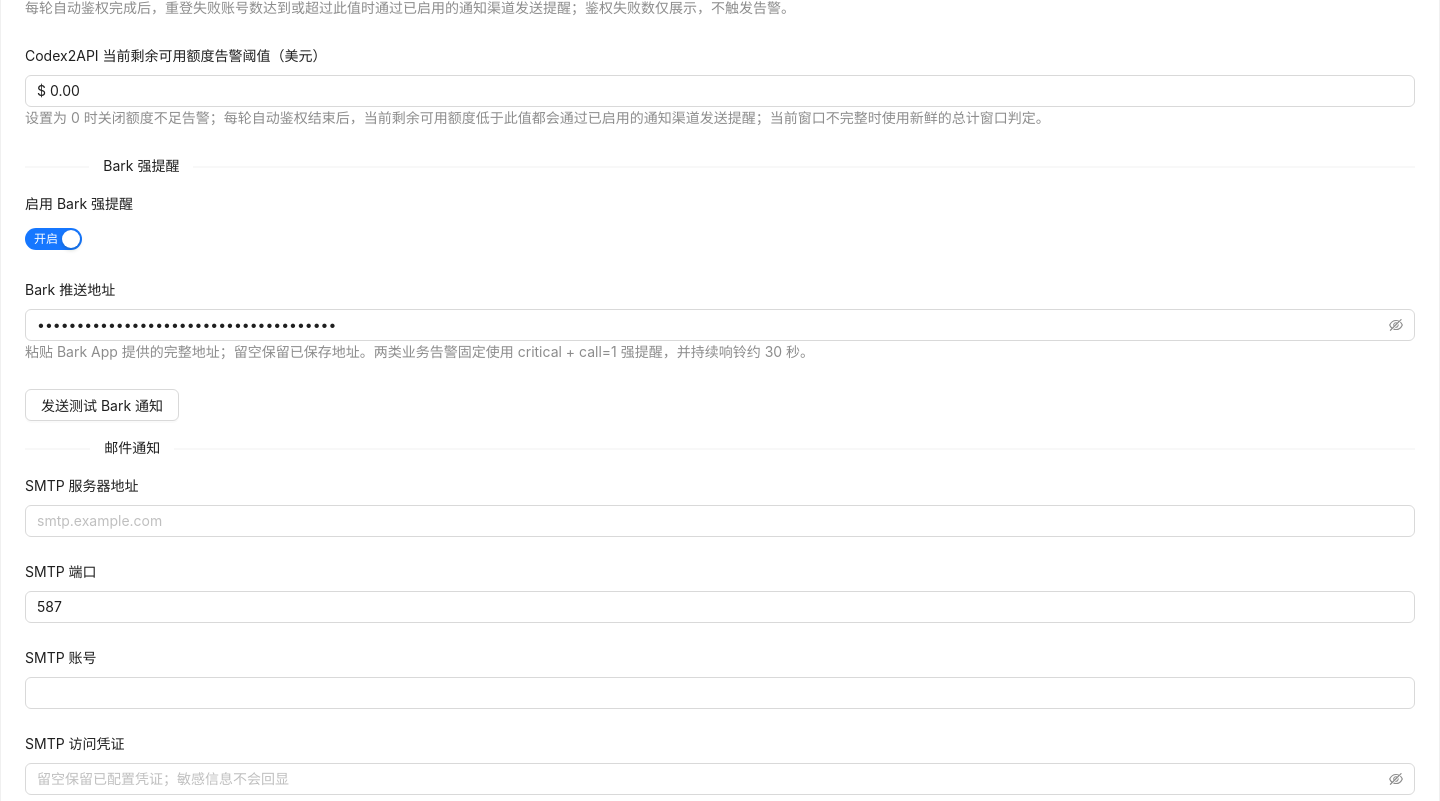
Test: ChatGPTAutoReloginSection › sends a Bark test with the current unsaved form values
(page scrolled)
What coordinates should you click on to do the following:
click the button "发送测试 Bark 通知"
I would click on:
 (102, 405)
Its box is [25,389,179,421].
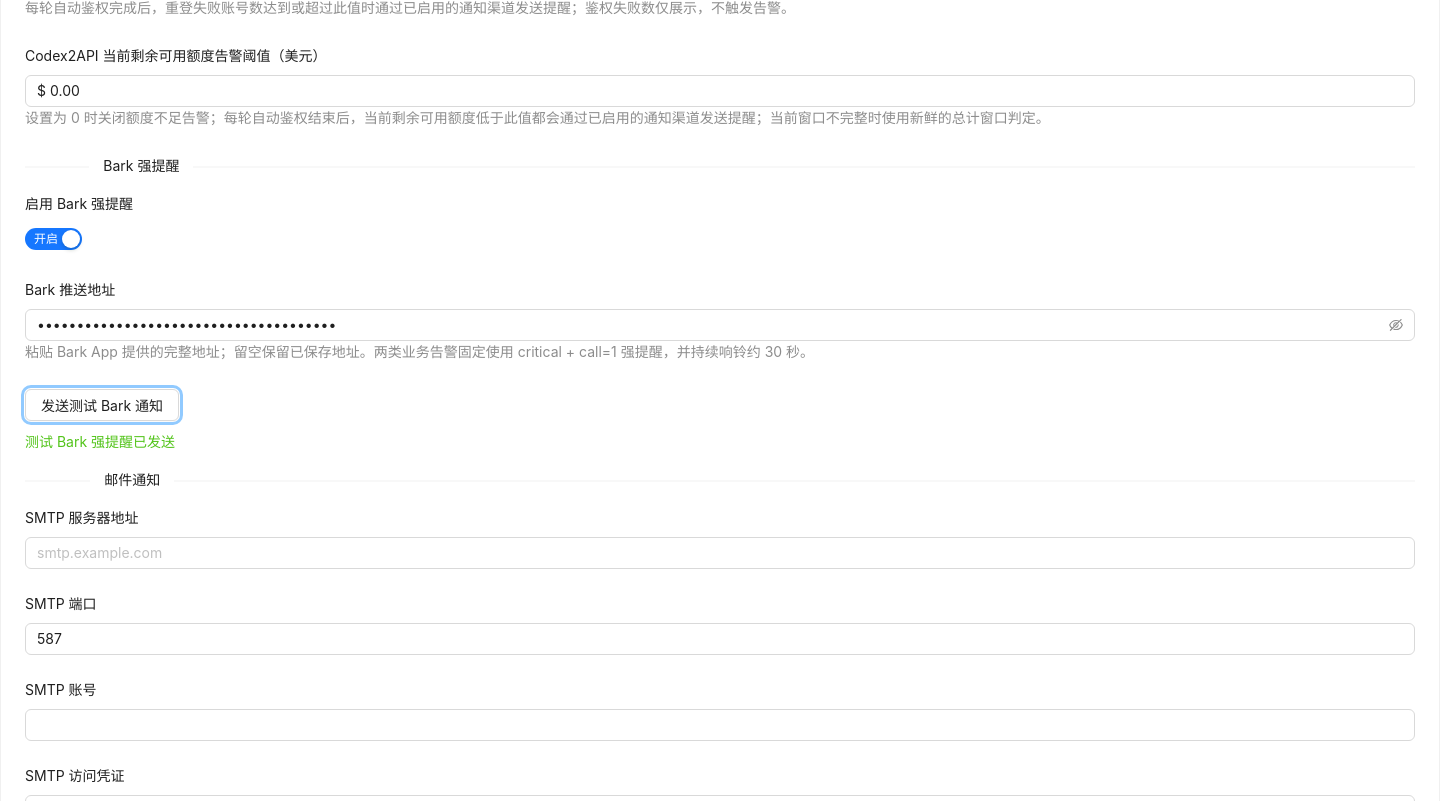
Expected: the text "测试 Bark 强提醒已发送" is shown, [25,433,175,450]
